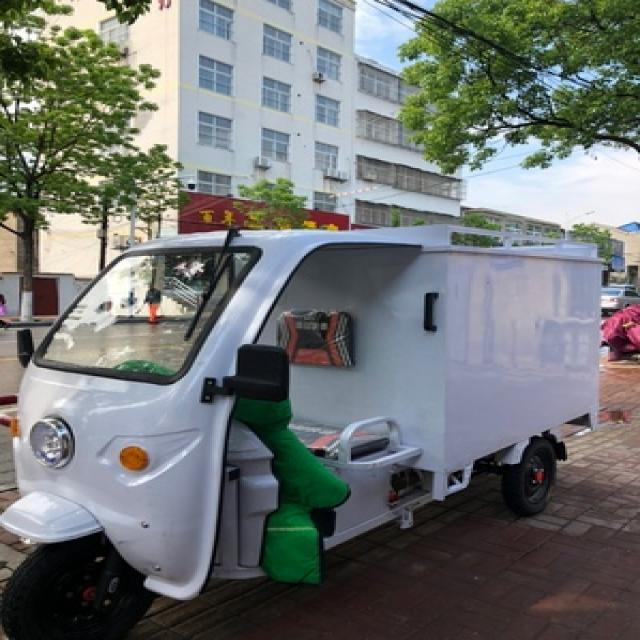car: (597, 286, 638, 310)
tricycle: (2, 217, 610, 638)
